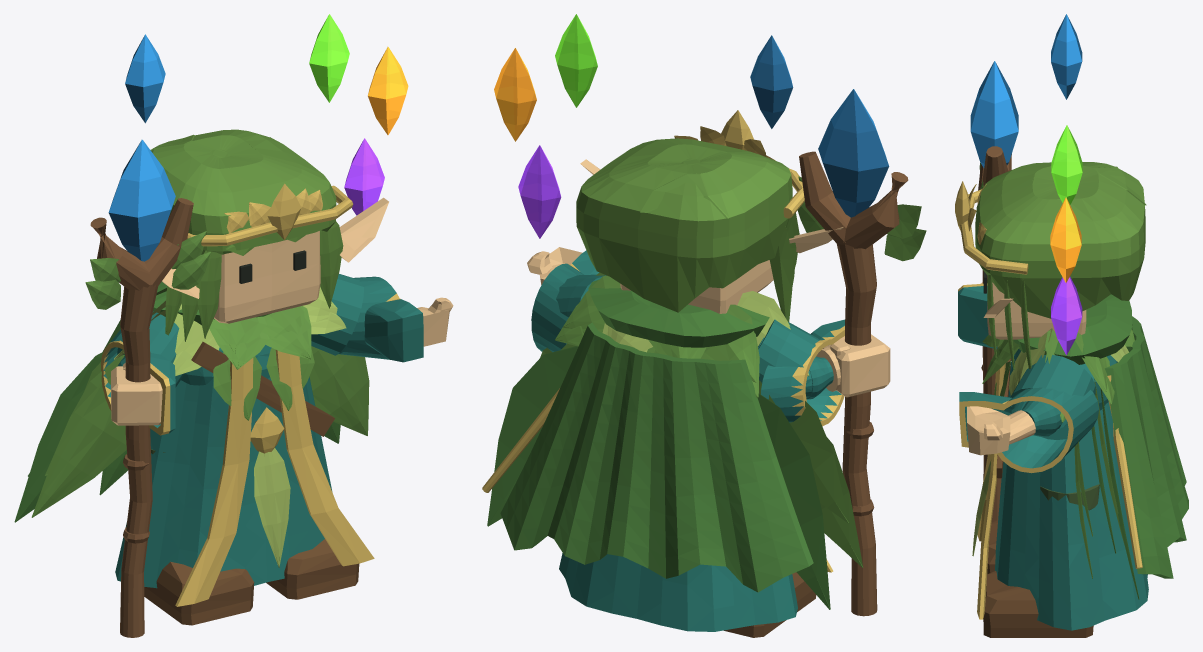
File: tempest.glb
The picture shows the model from 3 angles, left to right: view 1: azimuth 30°, elevation 25°; view 2: azimuth 150°, elevation 25°; view 3: azimuth 270°, elevation 25°; orthographic projection. The views are drawn at different scales.
Parts seen in each view (by area): view 1: Robe — connected shaped bell with coherent radial cloth fold, Hair — faceted green crown and rear hair mass with fitted sk, RIGHT staff — connected bent living wood shaft, LEFT casting arm — full outer sleeve with open fitted wrist , Head — one continuous bevelled jaw cheek forehead and concea, RIGHT robe broad flat pointed panel border, LEFT robe broad flat pointed panel border, RIGHT outer diagonal cloak leaf fan 2, Staff source primary large faceted focus, RIGHT boot — broad source angular toe ankle and fitted shaft, LEFT outer diagonal cloak leaf fan 2, RIGHT staff arm — full outer sleeve with open fitted wrist c (+28 smaller); view 2: Cape — connected draped folded rear fabric with source scall, Hair — faceted green crown and rear hair mass with fitted sk, Robe — connected shaped bell with coherent radial cloth fold, RIGHT staff — connected bent living wood shaft, Collar — underlying closed folded cloth shoulder yoke, RIGHT staff arm — full outer sleeve with open fitted wrist c, Staff source primary large faceted focus, RIGHT cloak overlapping long leaf fold 3, LEFT cloak overlapping long leaf fold 3, LEFT casting arm — full outer sleeve with open fitted wrist , RIGHT staff arm hand — compact source grip palm and thumb so, RIGHT outer diagonal cloak leaf fan 1 (+21 smaller); view 3: Robe — connected shaped bell with coherent radial cloth fold, Hair — faceted green crown and rear hair mass with fitted sk, Cape — connected draped folded rear fabric with source scall, LEFT casting arm — full outer sleeve with open fitted wrist , LEFT boot — broad source angular toe ankle and fitted shaft, Staff source primary large faceted focus, Collar — underlying closed folded cloth shoulder yoke, LEFT casting arm hand — connected planar source palm wrist a, Detached colored orbit 3 of 4, RIGHT staff arm — full outer sleeve with open fitted wrist c, Detached colored orbit 1 of 4, Detached colored orbit 4 of 4 (+24 smaller).
Boxes of the visible parts, bbox=[...] form: Robe — connected shaped bell with coherent radial cloth fold: bbox=[115, 352, 332, 588]; Hair — faceted green crown and rear hair mass with fitted sk: bbox=[151, 129, 336, 254]; RIGHT staff — connected bent living wood shaft: bbox=[120, 284, 157, 637]; LEFT casting arm — full outer sleeve with open fitted wrist : bbox=[311, 274, 423, 362]; Head — one continuous bevelled jaw cheek forehead and concea: bbox=[214, 231, 320, 323]; RIGHT robe broad flat pointed panel border: bbox=[175, 358, 253, 606]; LEFT robe broad flat pointed panel border: bbox=[275, 350, 374, 566]; RIGHT outer diagonal cloak leaf fan 2: bbox=[31, 378, 126, 517]; Staff source primary large faceted focus: bbox=[108, 139, 175, 261]; RIGHT boot — broad source angular toe ankle and fitted shaft: bbox=[144, 561, 254, 625]; LEFT outer diagonal cloak leaf fan 2: bbox=[309, 346, 369, 435]; RIGHT staff arm — full outer sleeve with open fitted wrist c: bbox=[100, 311, 185, 435]; Cape — connected draped folded rear fabric with source scall: bbox=[500, 322, 813, 592]; Hair — faceted green crown and rear hair mass with fitted sk: bbox=[576, 138, 792, 312]; Robe — connected shaped bell with coherent radial cloth fold: bbox=[559, 553, 797, 631]; RIGHT staff — connected bent living wood shaft: bbox=[837, 244, 877, 616]; Collar — underlying closed folded cloth shoulder yoke: bbox=[588, 279, 769, 347]; RIGHT staff arm — full outer sleeve with open fitted wrist c: bbox=[758, 319, 844, 426]; Staff source primary large faceted focus: bbox=[818, 89, 889, 217]; RIGHT cloak overlapping long leaf fold 3: bbox=[757, 393, 830, 609]; LEFT cloak overlapping long leaf fold 3: bbox=[487, 346, 577, 526]; LEFT casting arm — full outer sleeve with open fitted wrist : bbox=[531, 250, 605, 352]; RIGHT staff arm hand — compact source grip palm and thumb so: bbox=[816, 334, 890, 397]; RIGHT outer diagonal cloak leaf fan 1: bbox=[790, 401, 848, 523]; Robe — connected shaped bell with coherent radial cloth fold: bbox=[995, 355, 1148, 630]; Hair — faceted green crown and rear hair mass with fitted sk: bbox=[975, 162, 1145, 318]; Cape — connected draped folded rear fabric with source scall: bbox=[1105, 316, 1188, 578]; LEFT casting arm — full outer sleeve with open fitted wrist : bbox=[959, 355, 1098, 473]; LEFT boot — broad source angular toe ankle and fitted shaft: bbox=[983, 571, 1093, 637]; Staff source primary large faceted focus: bbox=[970, 61, 1018, 167]; Collar — underlying closed folded cloth shoulder yoke: bbox=[1014, 294, 1132, 364]; LEFT casting arm hand — connected planar source palm wrist a: bbox=[967, 406, 1035, 455]; Detached colored orbit 3 of 4: bbox=[1050, 197, 1081, 282]; RIGHT staff arm — full outer sleeve with open fitted wrist c: bbox=[958, 283, 997, 349]; Detached colored orbit 1 of 4: bbox=[1051, 14, 1082, 99]; Detached colored orbit 4 of 4: bbox=[1051, 276, 1082, 355].
Bounding box in the file's own units: 0.8913 × 1.29 × 0.5045.
